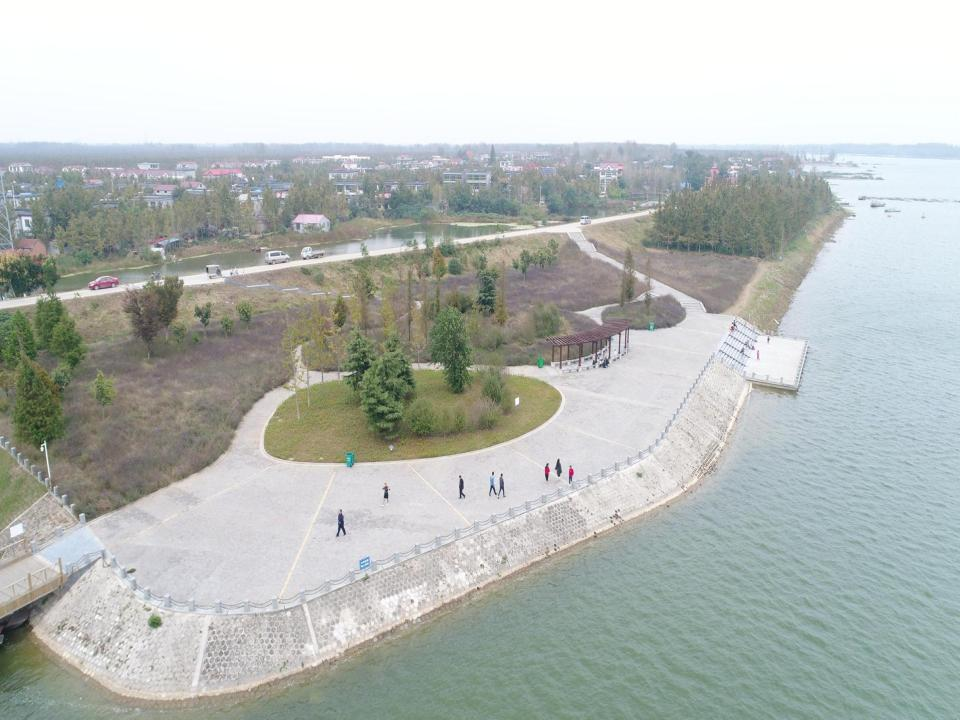car: (88, 276, 119, 290)
truck: (300, 246, 324, 260)
van: (264, 250, 289, 265), (580, 216, 591, 224)
